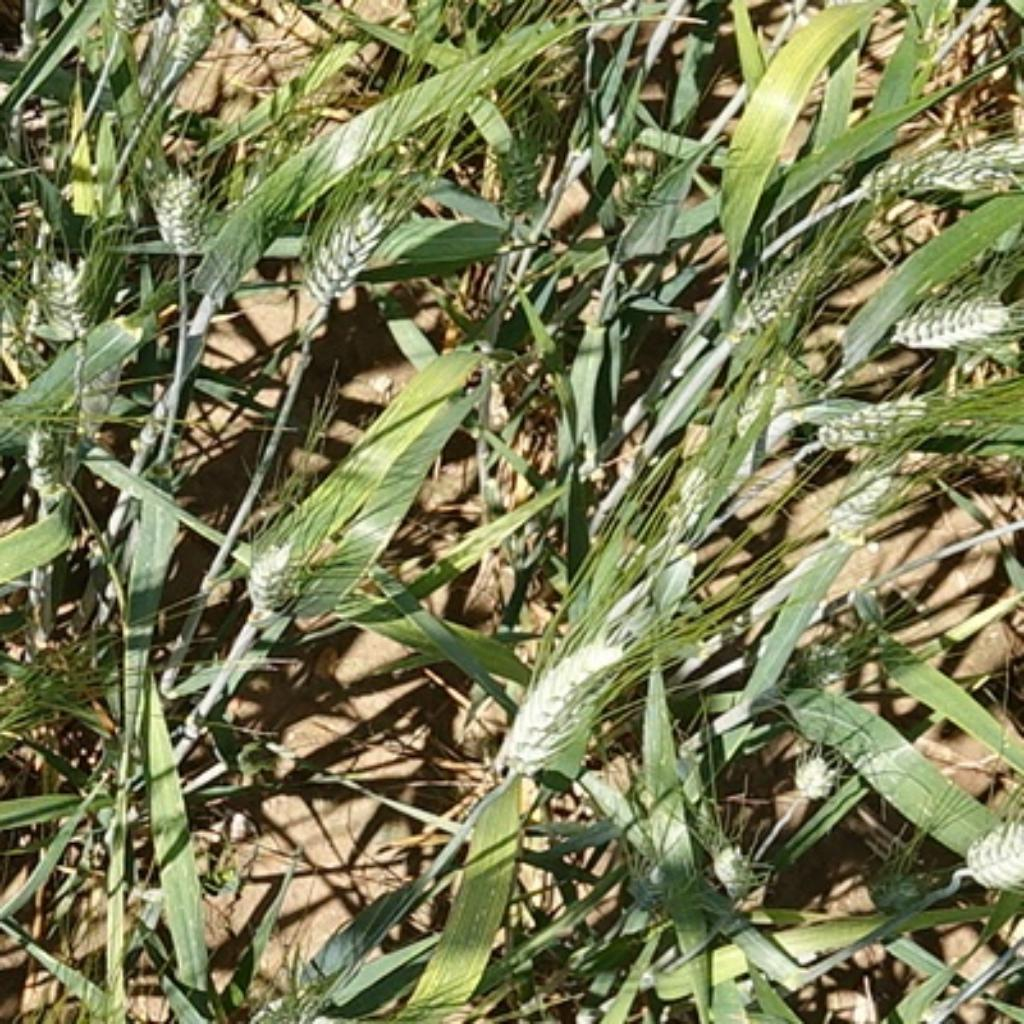0-0: (490, 623, 629, 775), (291, 161, 407, 325), (716, 220, 849, 345), (863, 133, 1024, 212), (808, 378, 962, 453), (883, 271, 1021, 350), (243, 522, 341, 622), (22, 235, 102, 354), (816, 448, 916, 535), (7, 411, 99, 496), (654, 465, 724, 562), (777, 634, 880, 698), (487, 121, 555, 213), (151, 2, 227, 81), (146, 173, 213, 254), (962, 809, 1024, 896), (240, 978, 355, 1024), (706, 834, 768, 916), (785, 742, 842, 798), (619, 159, 659, 213), (102, 2, 151, 46)
